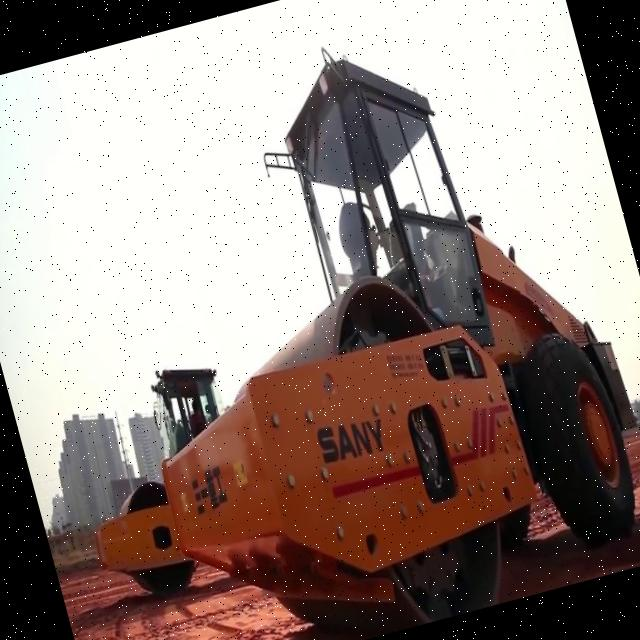Roller: (60, 0, 640, 640), (54, 350, 270, 612)
